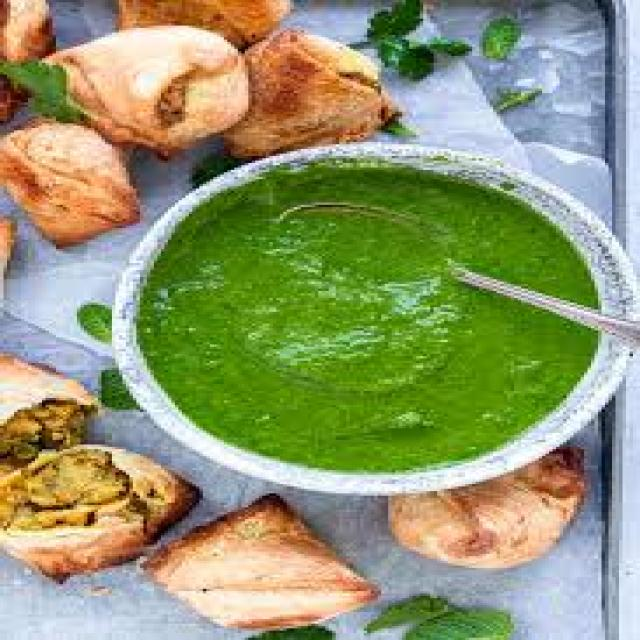GREEN CHUTNEY: (126, 164, 629, 482)
